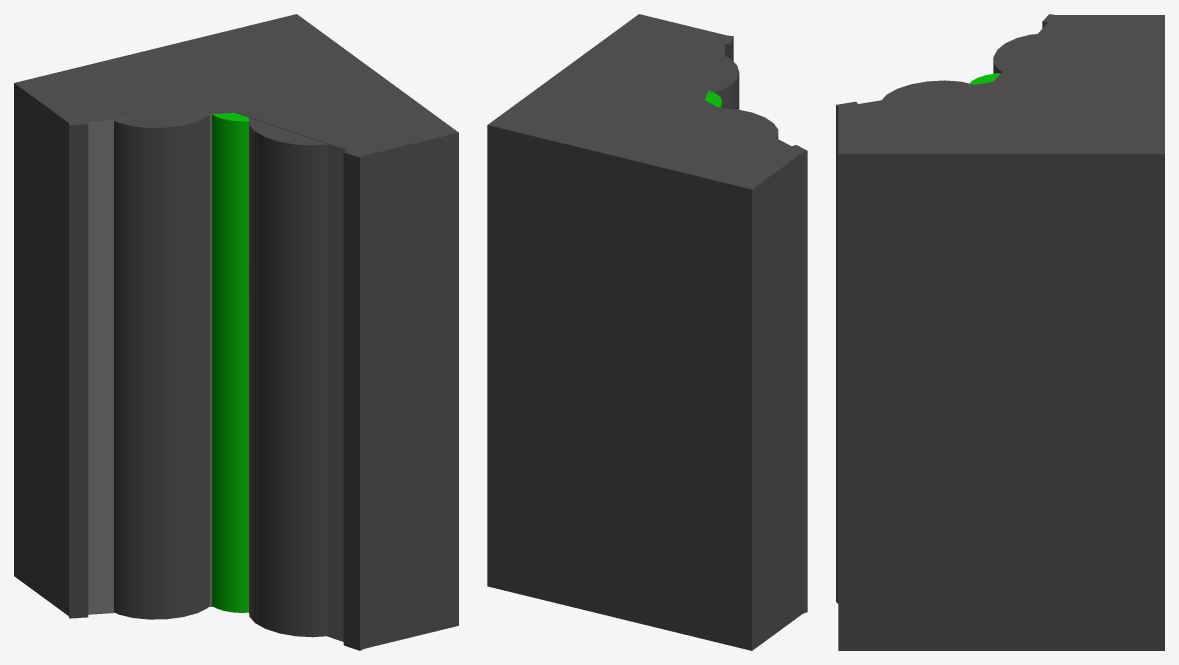
File: Robot_Wall_Corner.fbx
3 renders of one model, left to right at view 1: azimuth 30°, elevation 25°; view 2: azimuth 150°, elevation 25°; view 3: azimuth 270°, elevation 25°, orthographic. The views are drawn at different scales.
Visible parts, largest first — view 1: pCube91, pCylinder44, pCylinder45, pCylinder46; view 2: pCube91, pCylinder45, pCylinder44; view 3: pCube91, pCylinder45, pCylinder44.
Part boxes in pixels (x1,y1,x2,y2): pCube91: (14, 14, 458, 650); pCylinder44: (114, 114, 209, 619); pCylinder45: (249, 117, 328, 637); pCylinder46: (212, 113, 248, 612); pCube91: (487, 14, 807, 650); pCylinder45: (707, 54, 739, 109); pCylinder44: (721, 108, 778, 138); pCube91: (836, 14, 1164, 650); pCylinder45: (882, 80, 973, 99); pCylinder44: (993, 34, 1036, 73).
Bounding box in the file's own units: 3.02 × 3 × 5.
